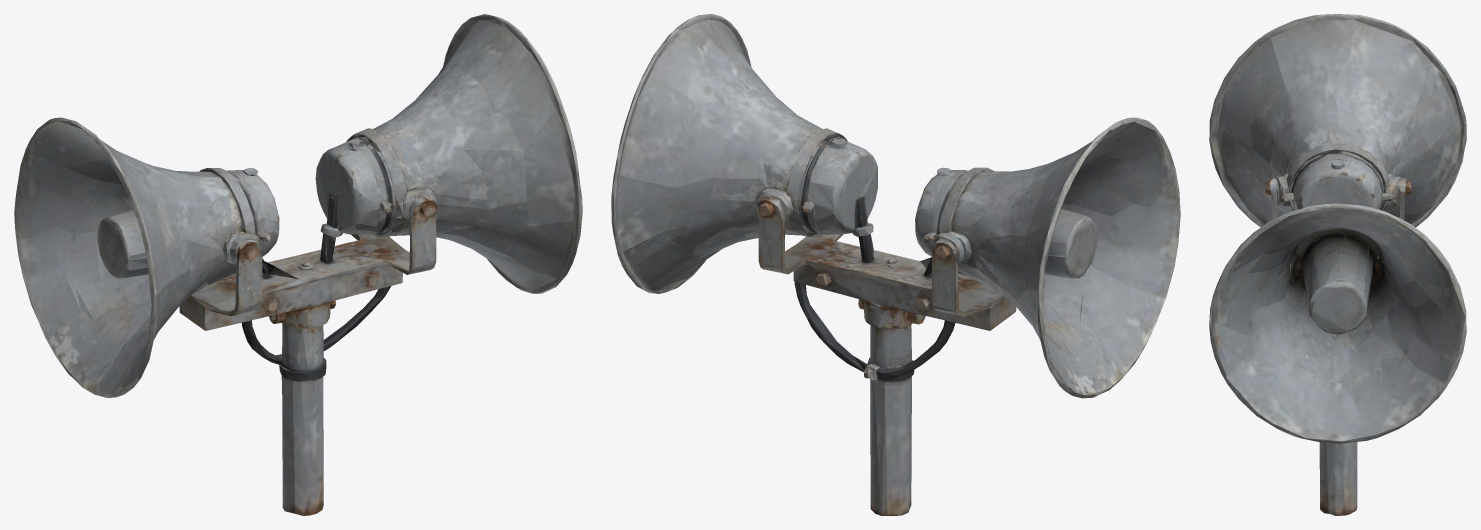
File: w3horns.glb
3 renders of one model, left to right at view 1: azimuth 30°, elevation 25°; view 2: azimuth 150°, elevation 25°; view 3: azimuth 270°, elevation 25°, orthographic. The views are drawn at different scales.
Parts seen in each view (by area): view 1: output_unwrapped; view 2: output_unwrapped; view 3: output_unwrapped.
Boxes of the visible parts, box(x1,y1,x2,y2) form: output_unwrapped: box(14, 14, 582, 515); output_unwrapped: box(611, 14, 1180, 515); output_unwrapped: box(1209, 14, 1466, 515).
Size of the model in its own units: 0.95 by 0.9074 by 0.5332.
1 material, 1 textured.
